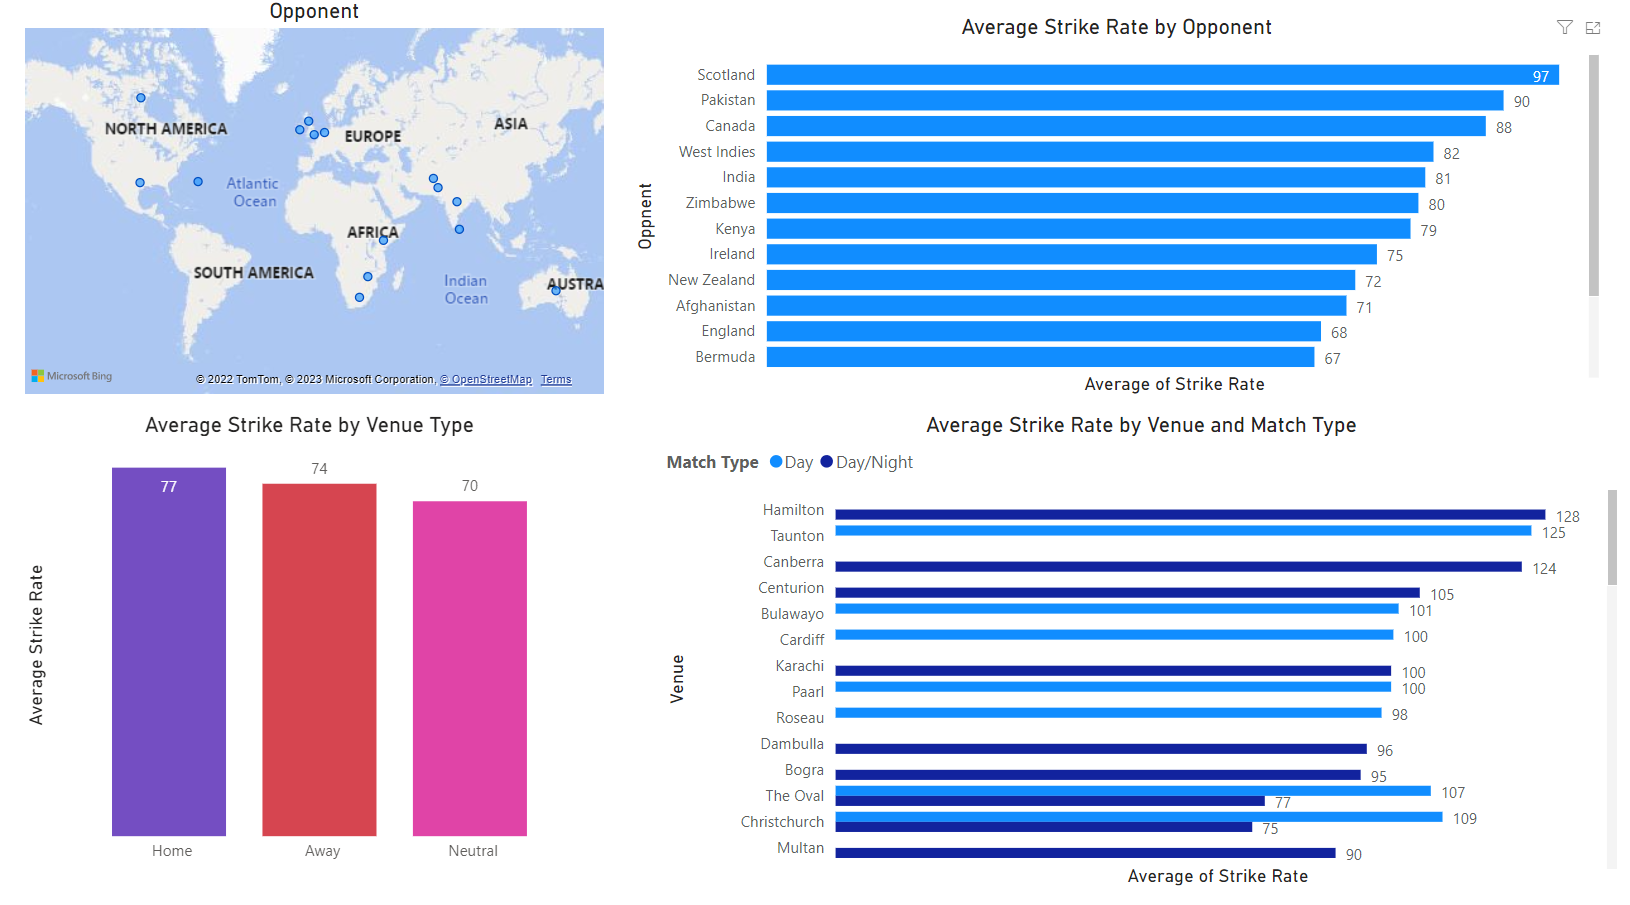

The page's visual inventory and layout, read from the dashboard file:
{"tool":"powerbi","page":{"name":"Strike Rate Statistics","canvas":[1280,720],"ordinal":2},"visuals":[{"type":"map","title":"Opponent","fields":{"Category":["ODI.Oppnent"]},"box":[9.7,0,467.8,319],"z":0},{"type":"columnChart","title":"Average Strike Rate by Venue Type","fields":{"Category":["ODI.Home vs Away"],"Y":["Avg(ODI.Strike Rate)"]},"box":[9.7,327.8,460.1,365.7],"z":1000},{"type":"barChart","title":"Average Strike Rate by Opponent","fields":{"Category":["ODI.Oppnent"],"Y":["Avg(ODI.Strike Rate)"]},"box":[492.2,12.6,774.2,306.4],"z":2000},{"type":"clusteredBarChart","title":"Average Strike Rate by Venue and Match Type","fields":{"Category":["ODI.Venue"],"Y":["Avg(ODI.Strike Rate)"],"Series":["ODI.Match Type"]},"box":[517.4,327.8,762.6,380.3],"z":3000}]}

Visuals, with their boxes in screenshot pixels (x1, y1, x2, y2), scaled from the page's 1280x720 canvas onto the 1630x905 screenshot:
"Opponent" map: [12, 0, 608, 401]
"Average Strike Rate by Venue Type" columnChart: [12, 412, 598, 872]
"Average Strike Rate by Opponent" barChart: [627, 16, 1613, 401]
"Average Strike Rate by Venue and Match Type" clusteredBarChart: [659, 412, 1629, 890]
